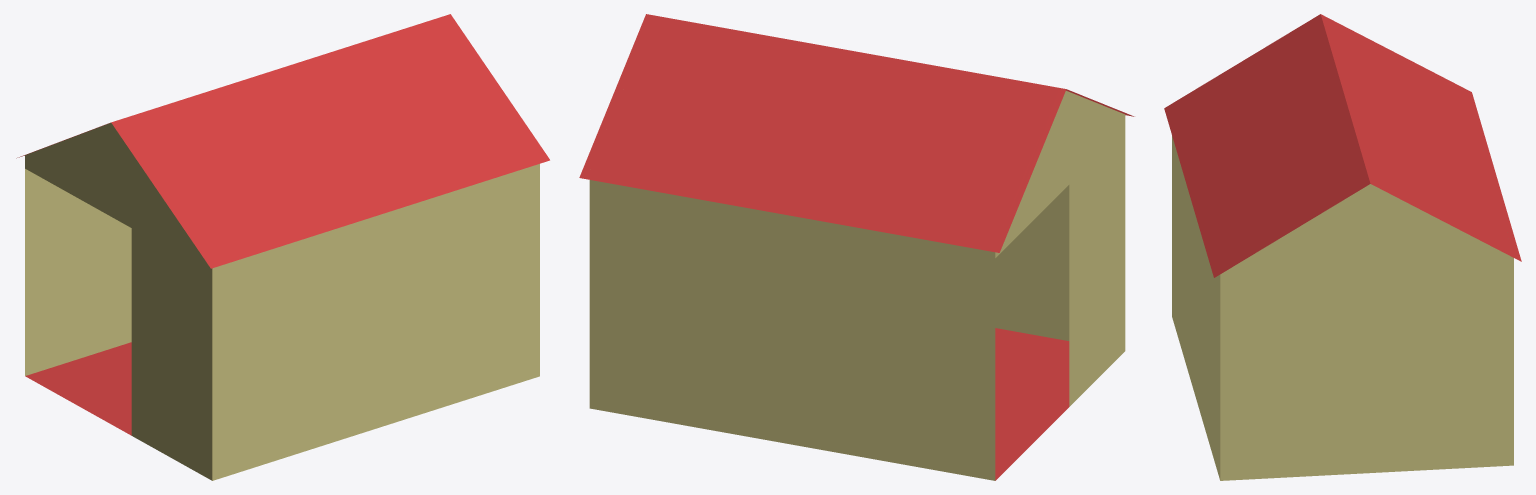
3 views of the same model, side by side, from view 1: azimuth 30°, elevation 25°; view 2: azimuth 150°, elevation 25°; view 3: azimuth 270°, elevation 25° (orthographic). The views are drawn at different scales.
Size of the model in its own units: 15.37 by 12.49 by 11.26.
